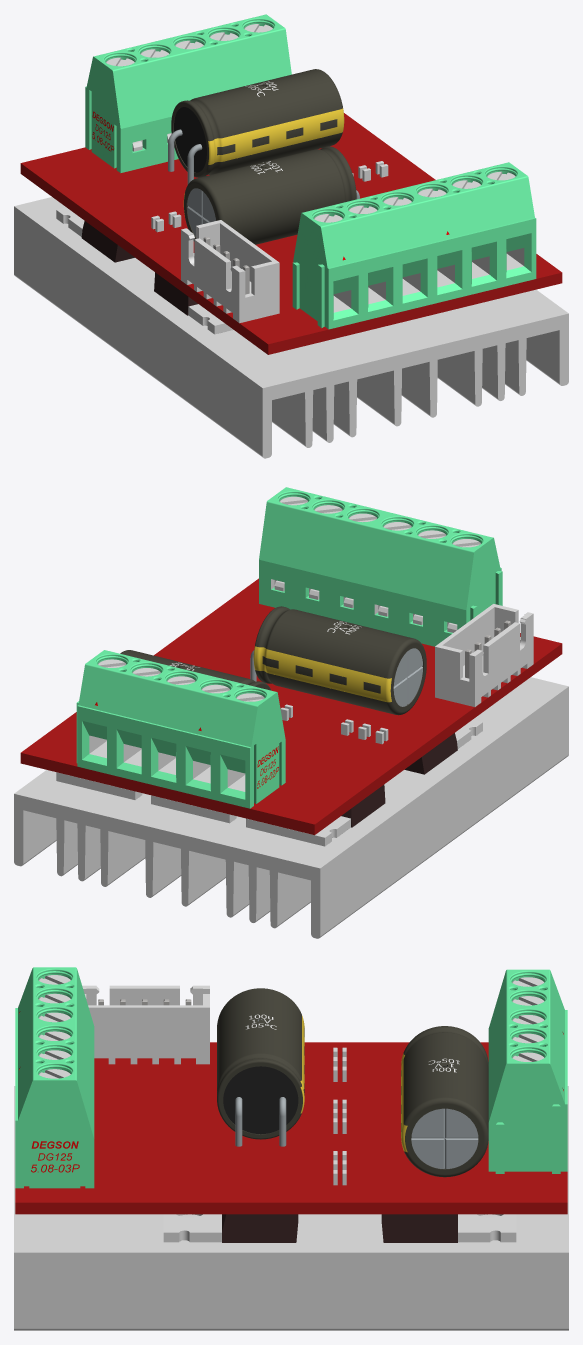
File: bldc_driver.glb
3 renders of one model, top to bottom at view 1: azimuth 30°, elevation 25°; view 2: azimuth 150°, elevation 25°; view 3: azimuth 270°, elevation 25°, orthographic. The views are drawn at different scales.
Visible parts, largest first — view 1: heatsink^bldc driver-1, Copia di C-HOR_MIR__D-10__L-20__P5__STAND-1__TMP-105__C-100u (×2), Pcb^bldc driver-1, Copia di DG125-5.08-03P-14-00AH^bldc driver-2, Copia di DG125-5.08-03P-14-00AH^bldc driver-3, Copia di DG125-5.08-02P-14-00AH^bldc driver-1, Copia di JST 5pin^bldc driver-1, Copia di DG125-5.08-03P-14-00AH^bldc driver-1, Copia di TO-220-3 Bend^bldc driver-4, Copia di TO-220-3 Bend^bldc driver-1; view 2: heatsink^bldc driver-1, Pcb^bldc driver-1, Copia di DG125-5.08-03P-14-00AH^bldc driver-2, Copia di C-HOR_MIR__D-10__L-20__P5__STAND-1__TMP-105__C-100u (×2), Copia di DG125-5.08-03P-14-00AH^bldc driver-1, Copia di DG125-5.08-03P-14-00AH^bldc driver-3, Copia di DG125-5.08-02P-14-00AH^bldc driver-1, Copia di JST 5pin^bldc driver-1, Copia di TO-220-3 Bend^bldc driver-1, Copia di TO-220-3 Bend^bldc driver-4, Copia di TO-220-3 Bend^bldc driver-3, Copia di TO-220-3 Bend^bldc driver-2; view 3: heatsink^bldc driver-1, Pcb^bldc driver-1, Copia di C-HOR_MIR__D-10__L-20__P5__STAND-1__TMP-105__C-100u (×2), Copia di DG125-5.08-03P-14-00AH^bldc driver-1, Copia di DG125-5.08-03P-14-00AH^bldc driver-3, Copia di JST 5pin^bldc driver-1, Copia di DG125-5.08-03P-14-00AH^bldc driver-2, Copia di TO-220-3 Bend^bldc driver-2, Copia di TO-220-3 Bend^bldc driver-5, Copia di DG125-5.08-02P-14-00AH^bldc driver-1.
Boxes of the visible parts, x1,y1,x2,y2 form: heatsink^bldc driver-1: (14, 197, 568, 458); Copia di C-HOR_MIR__D-10__L-20__P5__STAND-1__TMP-105__C-100u (×2): (168, 69, 359, 244); Pcb^bldc driver-1: (20, 113, 562, 354); Copia di DG125-5.08-03P-14-00AH^bldc driver-2: (292, 187, 432, 329); Copia di DG125-5.08-03P-14-00AH^bldc driver-3: (405, 162, 536, 304); Copia di DG125-5.08-02P-14-00AH^bldc driver-1: (85, 39, 188, 172); Copia di JST 5pin^bldc driver-1: (181, 220, 279, 323); Copia di DG125-5.08-03P-14-00AH^bldc driver-1: (163, 14, 291, 100); Copia di TO-220-3 Bend^bldc driver-4: (154, 214, 233, 334); Copia di TO-220-3 Bend^bldc driver-1: (56, 207, 176, 262); heatsink^bldc driver-1: (14, 677, 568, 938); Pcb^bldc driver-1: (20, 578, 562, 835); Copia di DG125-5.08-03P-14-00AH^bldc driver-2: (362, 512, 502, 646); Copia di C-HOR_MIR__D-10__L-20__P5__STAND-1__TMP-105__C-100u (×2): (120, 606, 426, 715); Copia di DG125-5.08-03P-14-00AH^bldc driver-1: (76, 650, 207, 791); Copia di DG125-5.08-03P-14-00AH^bldc driver-3: (259, 487, 389, 625); Copia di DG125-5.08-02P-14-00AH^bldc driver-1: (181, 675, 285, 808); Copia di JST 5pin^bldc driver-1: (435, 604, 533, 706); Copia di TO-220-3 Bend^bldc driver-1: (246, 722, 385, 846); Copia di TO-220-3 Bend^bldc driver-4: (345, 719, 482, 774); Copia di TO-220-3 Bend^bldc driver-3: (151, 707, 288, 823); Copia di TO-220-3 Bend^bldc driver-2: (56, 772, 142, 799); heatsink^bldc driver-1: (14, 1086, 568, 1330); Pcb^bldc driver-1: (15, 1042, 567, 1214); Copia di C-HOR_MIR__D-10__L-20__P5__STAND-1__TMP-105__C-100u (×2): (217, 988, 488, 1177); Copia di DG125-5.08-03P-14-00AH^bldc driver-1: (488, 1007, 567, 1173); Copia di DG125-5.08-03P-14-00AH^bldc driver-3: (15, 1023, 94, 1188); Copia di JST 5pin^bldc driver-1: (82, 985, 209, 1064); Copia di DG125-5.08-03P-14-00AH^bldc driver-2: (15, 967, 94, 1081); Copia di TO-220-3 Bend^bldc driver-2: (342, 1151, 516, 1242); Copia di TO-220-3 Bend^bldc driver-5: (163, 1151, 337, 1242); Copia di DG125-5.08-02P-14-00AH^bldc driver-1: (488, 969, 567, 1065).
Size of the model in its own units: 0.045 by 0.0295 by 0.0633.
